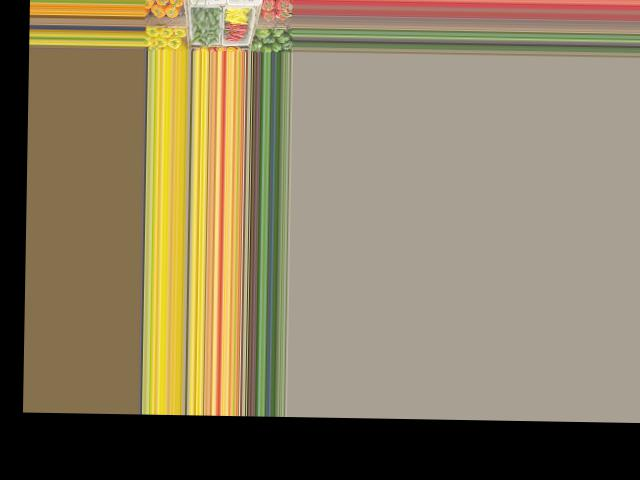bell_pepper: (270, 25, 284, 41)
